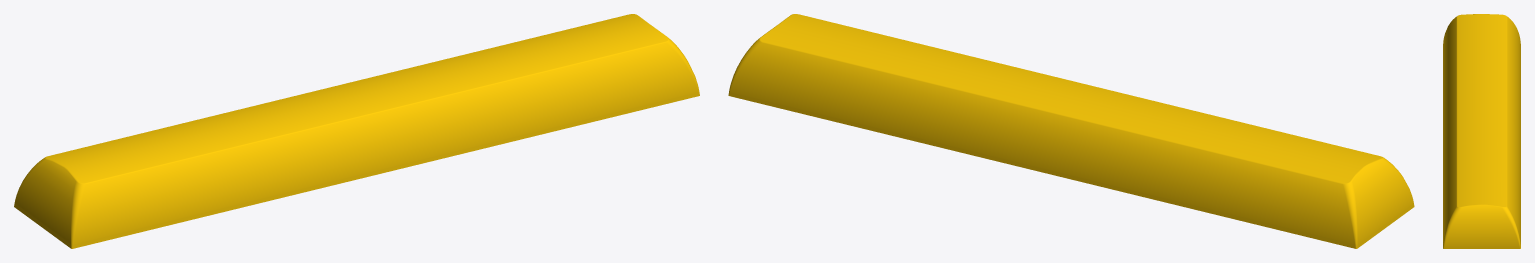
Rendered from 6u_convex.glb.
3 views of the same model, side by side, from view 1: azimuth 30°, elevation 25°; view 2: azimuth 150°, elevation 25°; view 3: azimuth 270°, elevation 25° (orthographic). The views are drawn at different scales.
Parts seen in each view (by area): view 1: Body2; view 2: Body2; view 3: Body2.
Boxes of the visible parts, x1,y1,x2,y2 form: Body2: [14, 14, 699, 248]; Body2: [728, 14, 1414, 248]; Body2: [1443, 14, 1520, 248].
Size of the model in its own units: 114 by 9.65 by 18.3.
